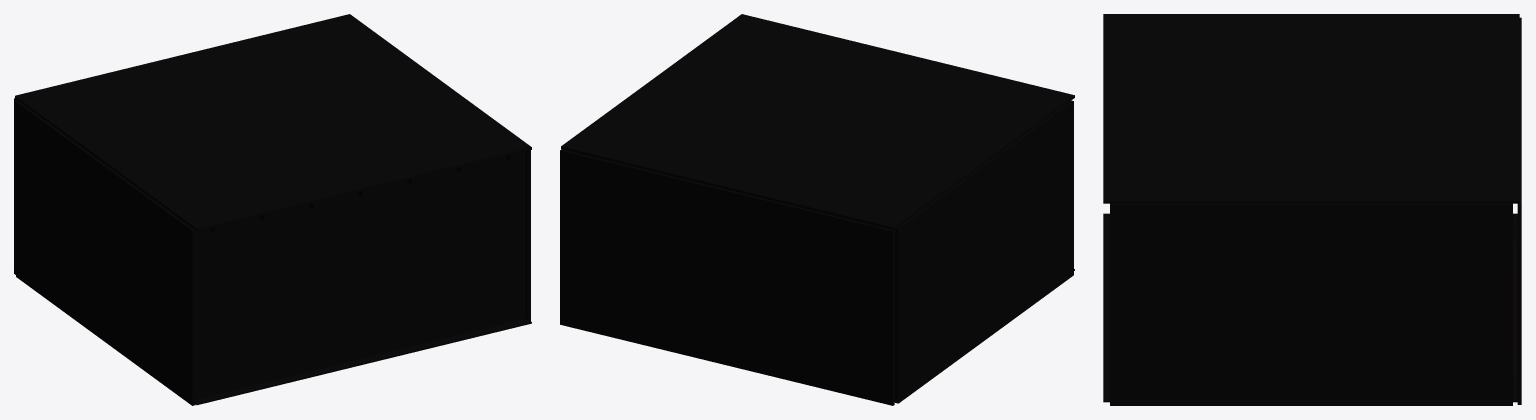
The model's file is StudyArchitecture.fbx.
The picture shows the model from 3 angles, left to right: view 1: azimuth 30°, elevation 25°; view 2: azimuth 150°, elevation 25°; view 3: azimuth 270°, elevation 25°; orthographic projection. The views are drawn at different scales.
Visible parts, largest first — view 1: StudyArchitecture; view 2: StudyArchitecture; view 3: StudyArchitecture.
Boxes of the visible parts, box(x1,y1,x2,y2) form: StudyArchitecture: box(14, 14, 531, 405); StudyArchitecture: box(560, 14, 1074, 405); StudyArchitecture: box(1103, 14, 1521, 405).
Size of the model in its own units: 3435 by 1733 by 3215.
